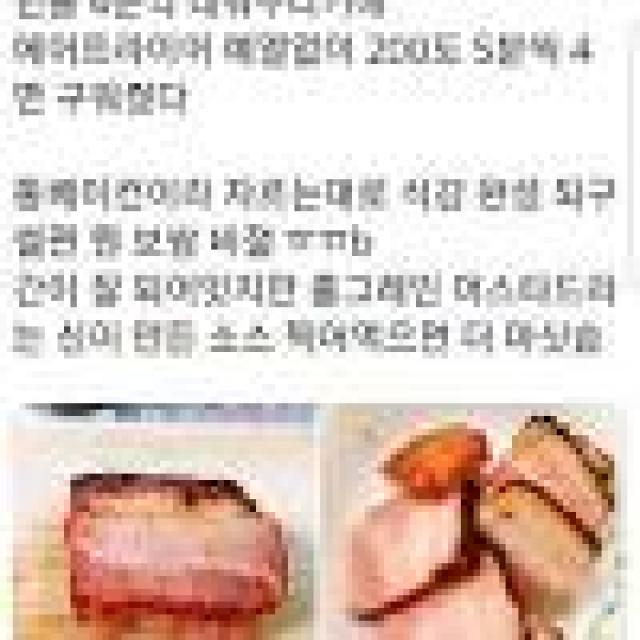bacon: (341, 414, 621, 640), (53, 478, 300, 634)
